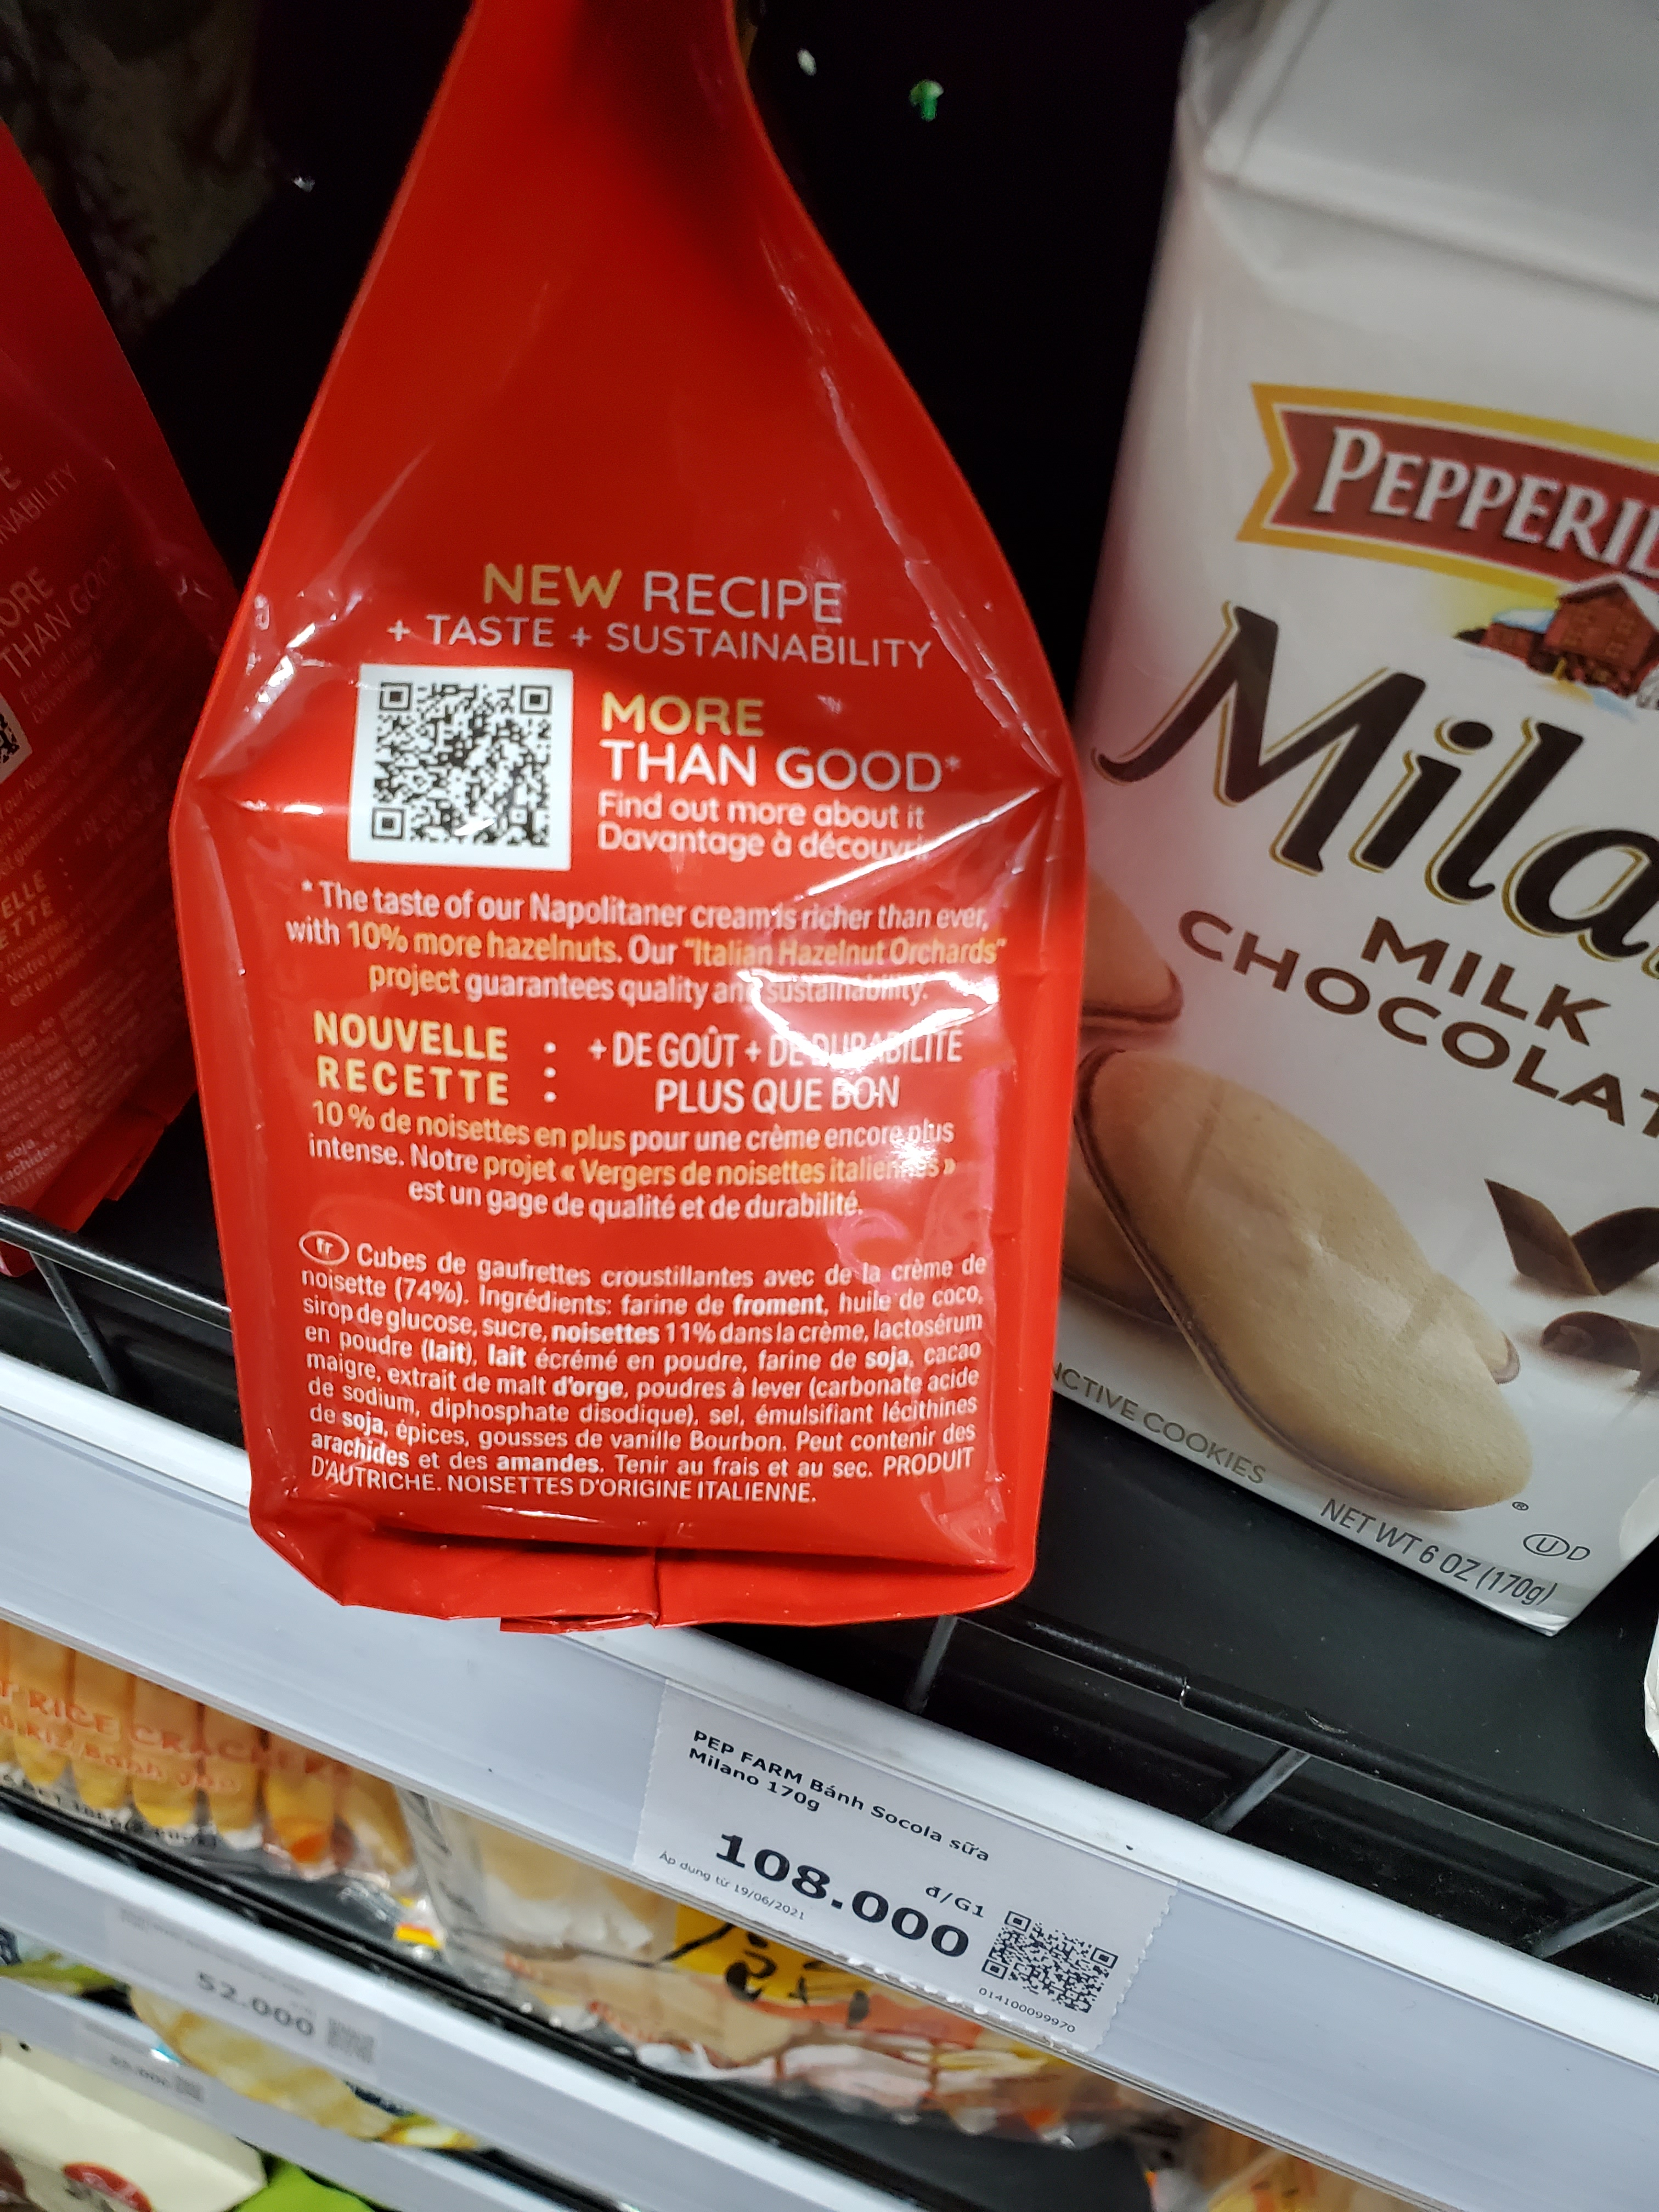qr code: (333, 651, 575, 873)
